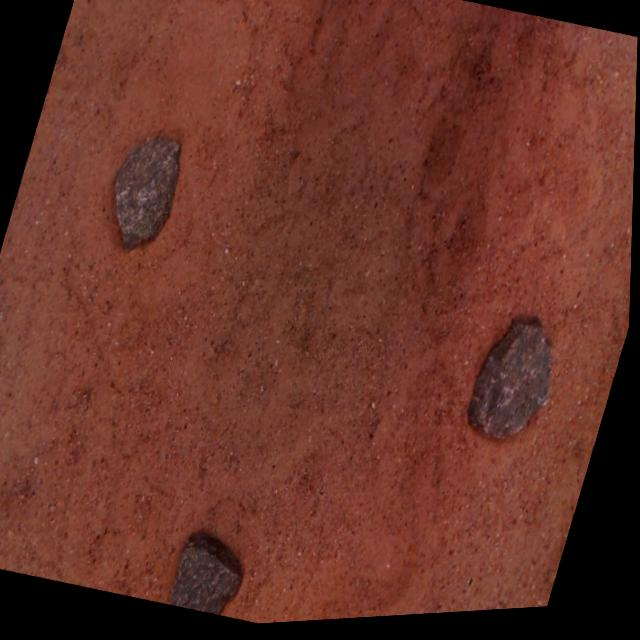rock: (470, 328, 554, 445), (115, 140, 181, 251), (174, 537, 246, 618)
